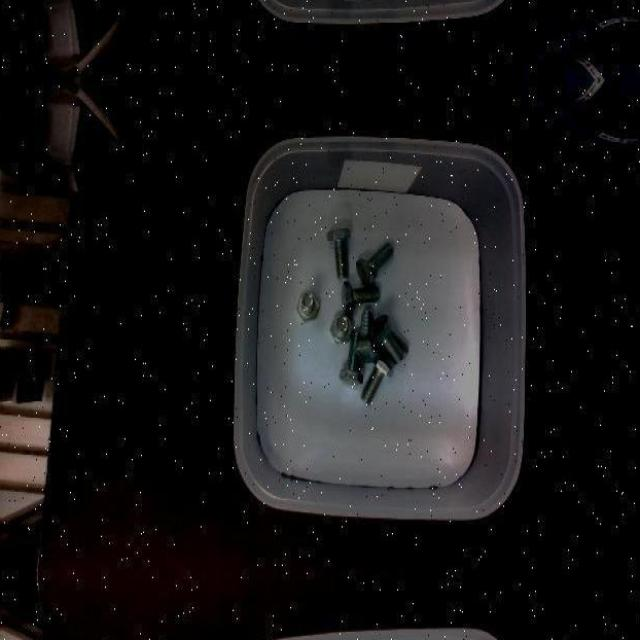screw: (368, 314, 402, 365), (356, 242, 393, 287), (360, 357, 393, 404), (326, 226, 351, 278), (342, 280, 379, 311), (329, 313, 354, 344), (296, 290, 319, 321)
